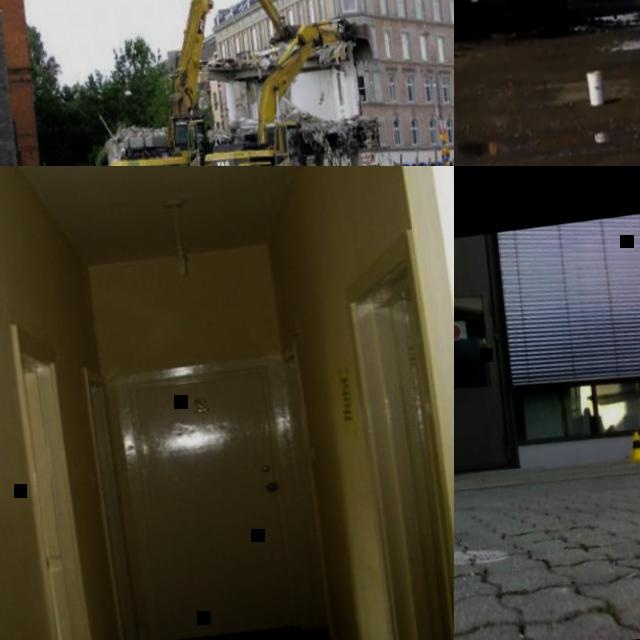Safety Cone: (625, 431, 640, 462)
machinery: (75, 0, 321, 166), (186, 10, 372, 166), (454, 0, 614, 63)
